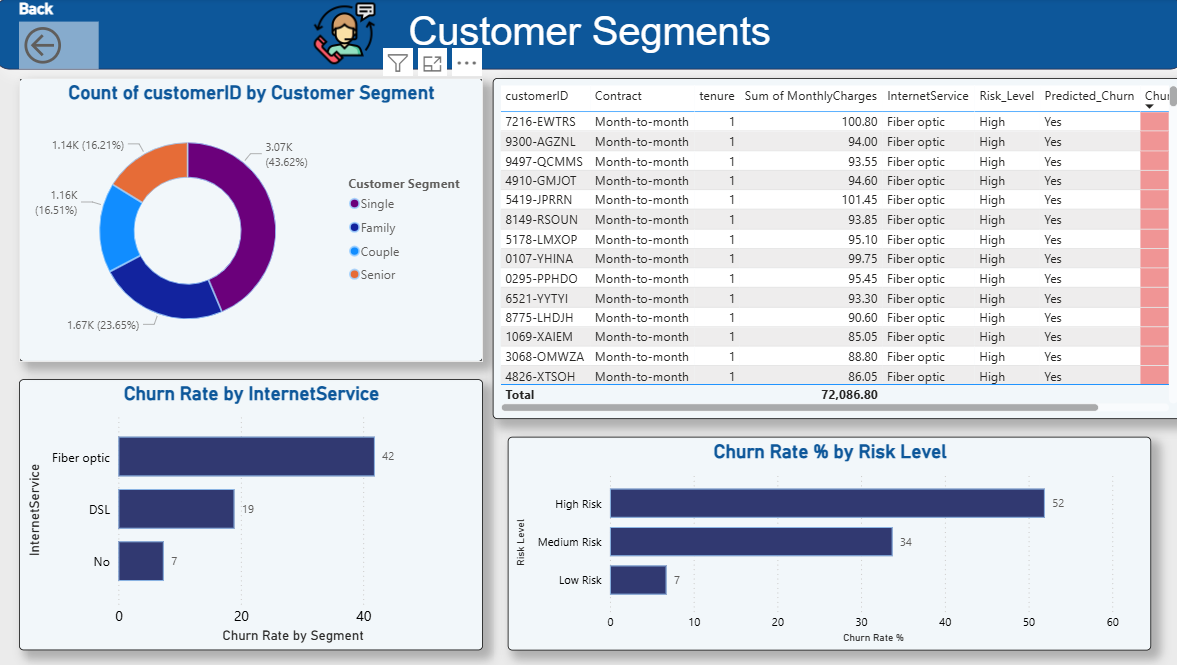

The page's visual inventory and layout, read from the dashboard file:
{"tool":"powerbi","page":{"name":"Customer Segments","canvas":[1280,720],"ordinal":2},"visuals":[{"type":"textbox","box":[0,0,1280,76.4],"z":0},{"type":"barChart","fields":{"Y":["Telco_Customer_Churn.Churn Rate %"],"Category":["Telco_Customer_Churn.Risk Level"]},"box":[549.2,461.9,691.6,229.6],"z":1000},{"type":"barChart","title":"Churn Rate by InternetService","fields":{"Category":["Telco_Customer_Churn.InternetService"],"Y":["Telco_Customer_Churn.Churn Rate by Segment"]},"box":[26.9,409.6,498.2,291.4],"z":2000},{"type":"donutChart","fields":{"Category":["Telco_Customer_Churn.Customer Segment"],"Y":["CountNonNull(Telco_Customer_Churn.customerID)"]},"box":[26.9,85.9,498.2,304.8],"z":3000},{"type":"tableEx","fields":{"Values":["Telco_Customer_Churn.customerID","Telco_Customer_Churn.Contract","Telco_Customer_Churn.tenure","Sum(Telco_Customer_Churn.MonthlyCharges)","Telco_Customer_Churn.InternetService","churn_predictions.Risk_Level","churn_predictions.Predicted_Churn","churn_predictions.Churn_Probability"]},"box":[535.8,85.9,743.9,366.6],"z":4000},{"type":"image","box":[337.1,0,79.2,76.5],"z":5000},{"type":"actionButton","title":"Back","box":[26.9,1.3,85.9,75.2],"z":6000}]}

Visuals, with their boxes in screenshot pixels (x1, y1, x2, y2), scaled from the page's 1280x720 canvas onto the 1177x665 screenshot:
textbox: 0, 0, 1176, 71
barChart - Telco_Customer_Churn.Churn Rate % x Telco_Customer_Churn.Risk Level: 505, 427, 1141, 639
"Churn Rate by InternetService" barChart: 25, 378, 483, 647
donutChart - Telco_Customer_Churn.Customer Segment x CountNonNull(Telco_Customer_Churn.customerID): 25, 79, 483, 361
tableEx - Telco_Customer_Churn.customerID x Telco_Customer_Churn.Contract: 493, 79, 1176, 418
image: 310, 0, 383, 71
"Back" actionButton: 25, 1, 104, 71
